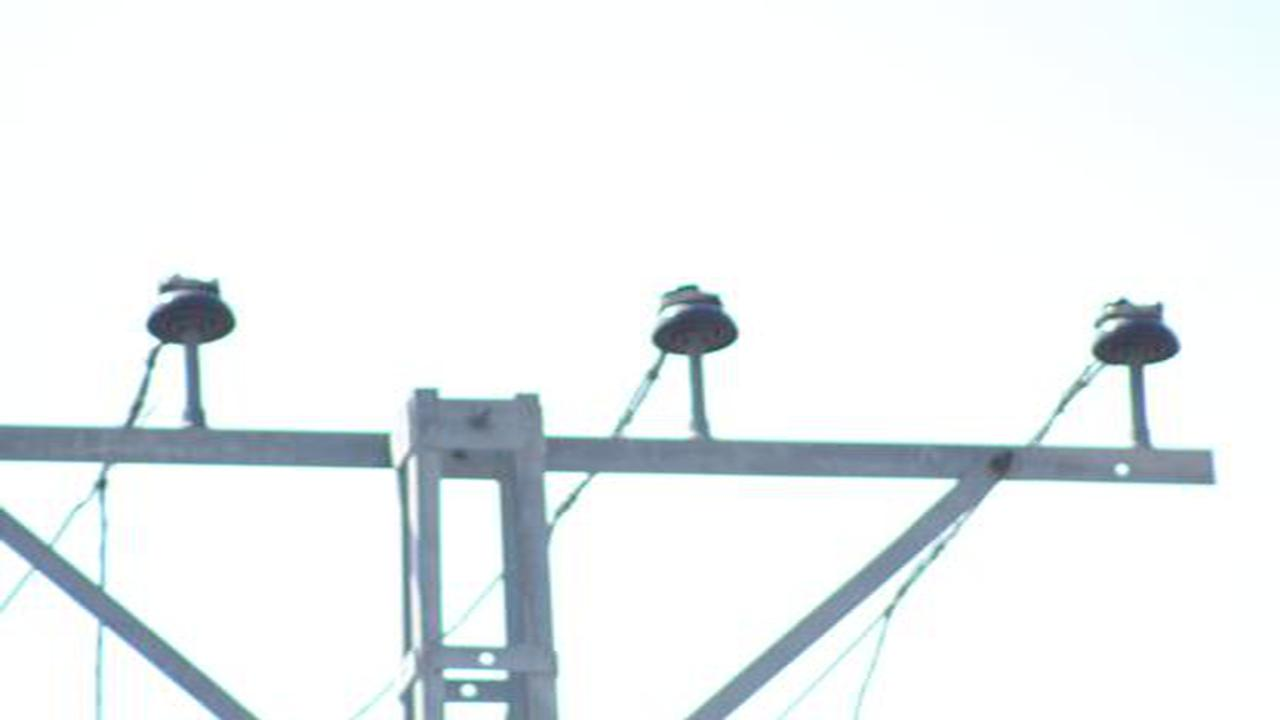insulator_pin: (642, 280, 742, 362), (1089, 292, 1185, 375), (145, 268, 240, 347)
